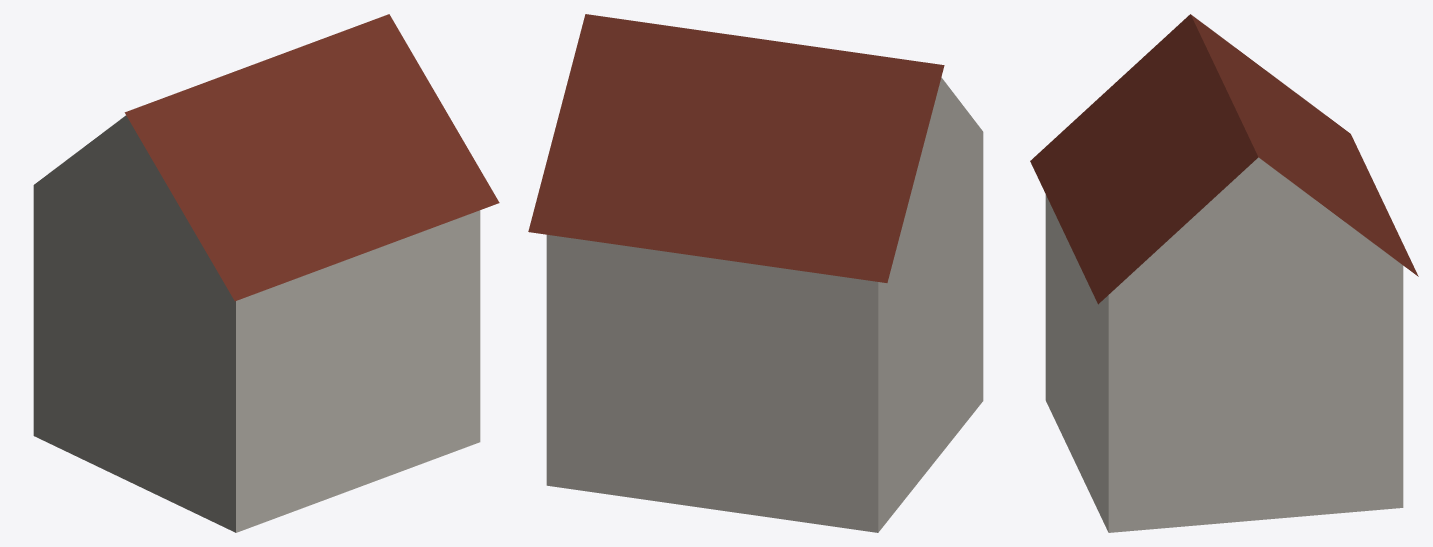
The picture shows the model from 3 angles, left to right: view 1: azimuth 30°, elevation 25°; view 2: azimuth 150°, elevation 25°; view 3: azimuth 270°, elevation 25°; orthographic projection. The views are drawn at different scales.
Parts seen in each view (by area): view 1: buildings; view 2: buildings; view 3: buildings.
Part boxes in pixels (x1=…): buildings: x1=33, y1=14, x2=499, y2=532; buildings: x1=528, y1=14, x2=983, y2=532; buildings: x1=1030, y1=14, x2=1418, y2=532.
Size of the model in its own units: 9.08 by 9.14 by 8.74.
